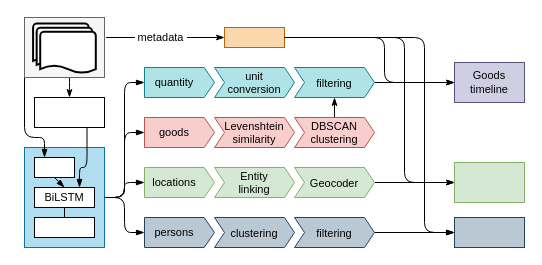
Image size: 542x265. Some labels were removed from this diagram. Each missing label, with the centre of its shape:
CNN: (x=54, y=167)
CRF: (x=64, y=227)
date: (x=254, y=37)
Interactive map: (x=489, y=182)
Persons timeline: (x=489, y=232)
text: (x=64, y=48)
word embeddings: (x=69, y=112)
